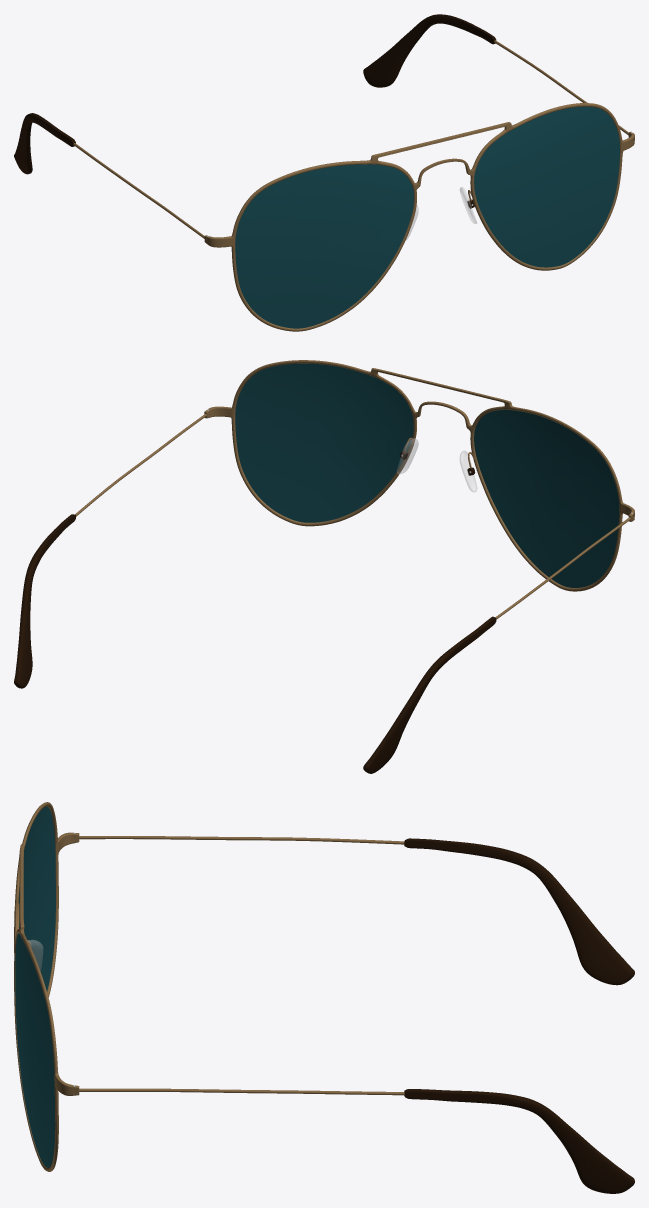
3 renders of one model, top to bottom at view 1: azimuth 30°, elevation 25°; view 2: azimuth 150°, elevation 25°; view 3: azimuth 270°, elevation 25°, orthographic. The views are drawn at different scales.
Visible parts, largest first — view 1: Aviators; view 2: Aviators; view 3: Aviators.
Boxes of the visible parts, left/top/right/bottom form: Aviators: left=14, top=14, right=634, bottom=331; Aviators: left=14, top=360, right=634, bottom=773; Aviators: left=14, top=802, right=634, bottom=1193.
Size of the model in its own units: 13.96 by 5.22 by 14.4.
